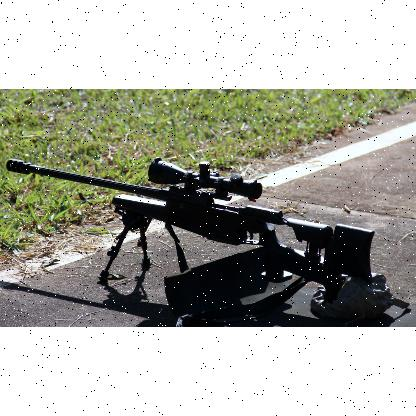gun: (6, 157, 374, 300)
